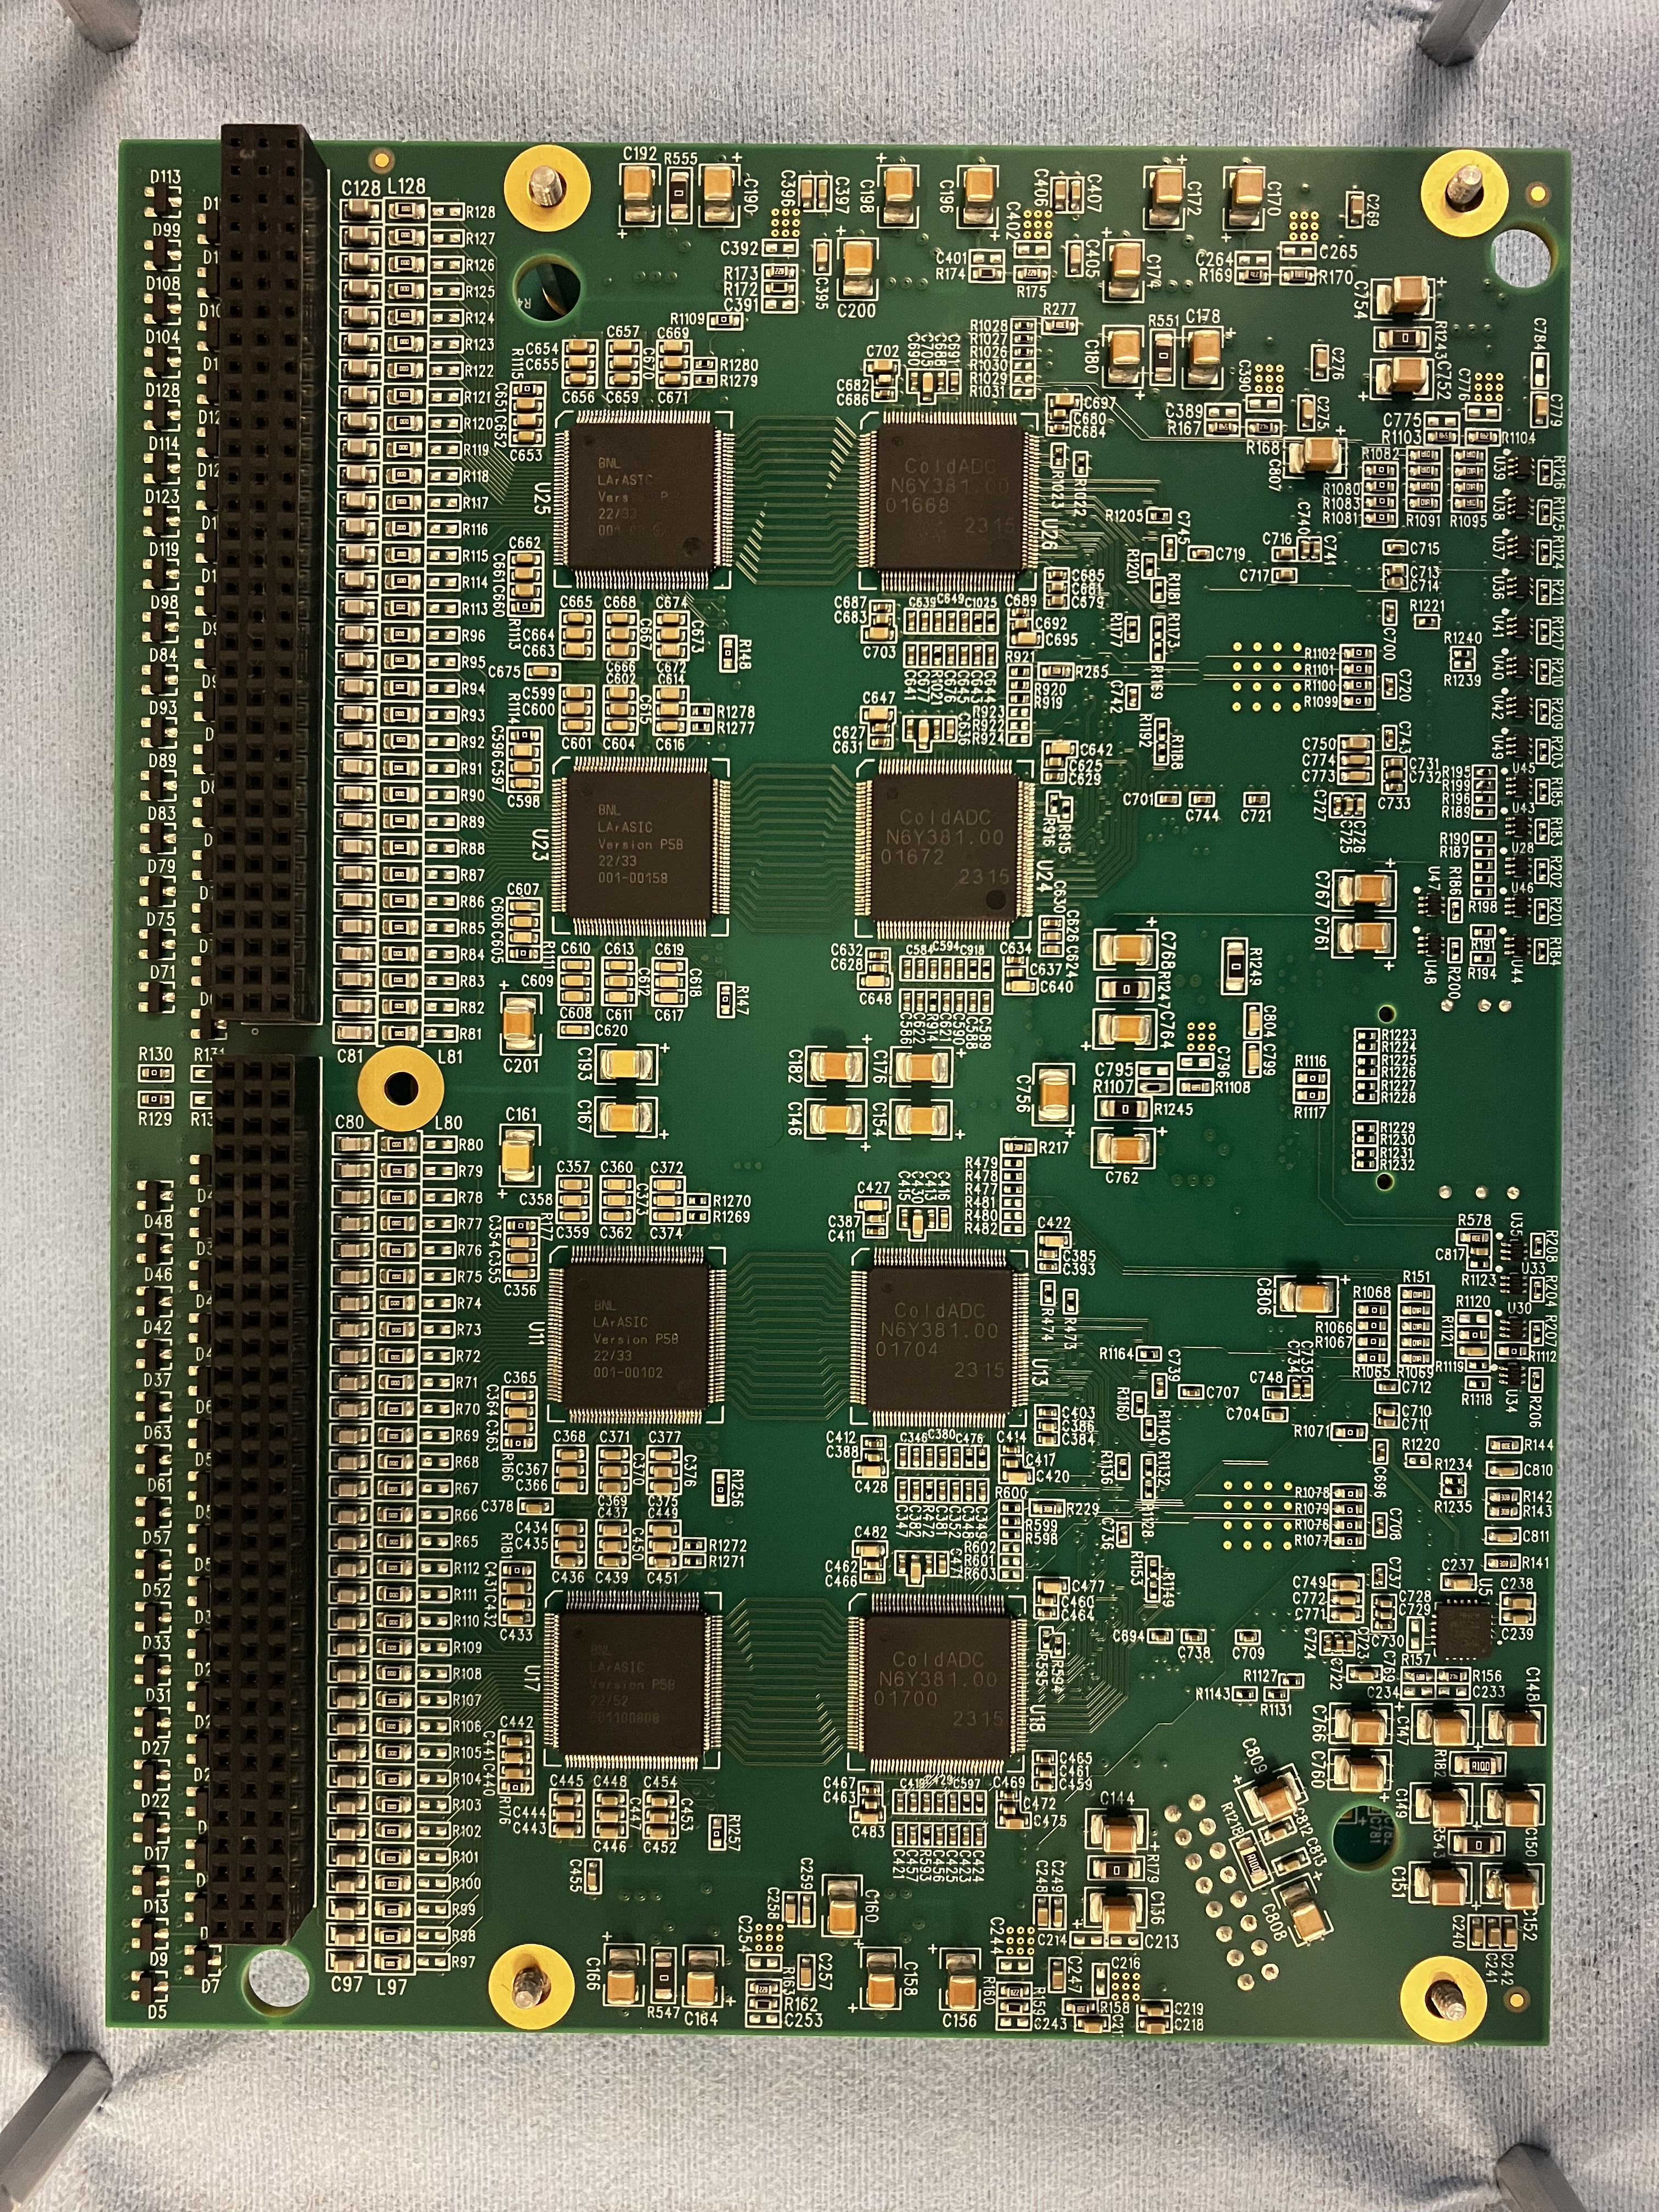chip: (864, 1611, 1014, 1766), (561, 1261, 711, 1414), (864, 1261, 1014, 1414), (558, 1608, 708, 1761), (873, 772, 1019, 923), (570, 425, 716, 575), (566, 772, 713, 921), (877, 421, 1021, 573)
